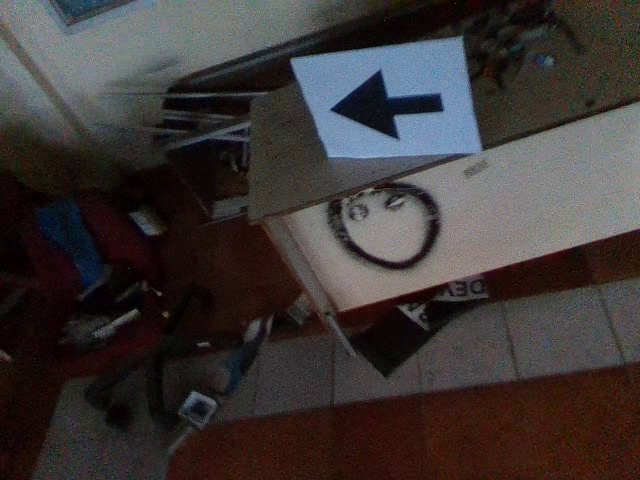Left: (324, 64, 449, 143)
